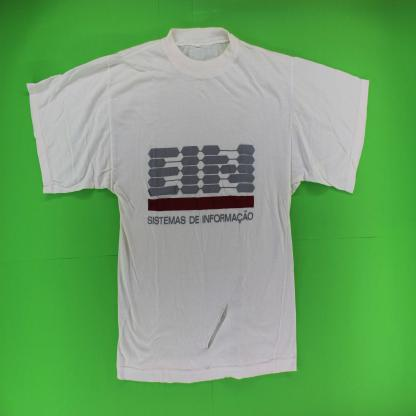hole: (205, 302, 230, 351)
